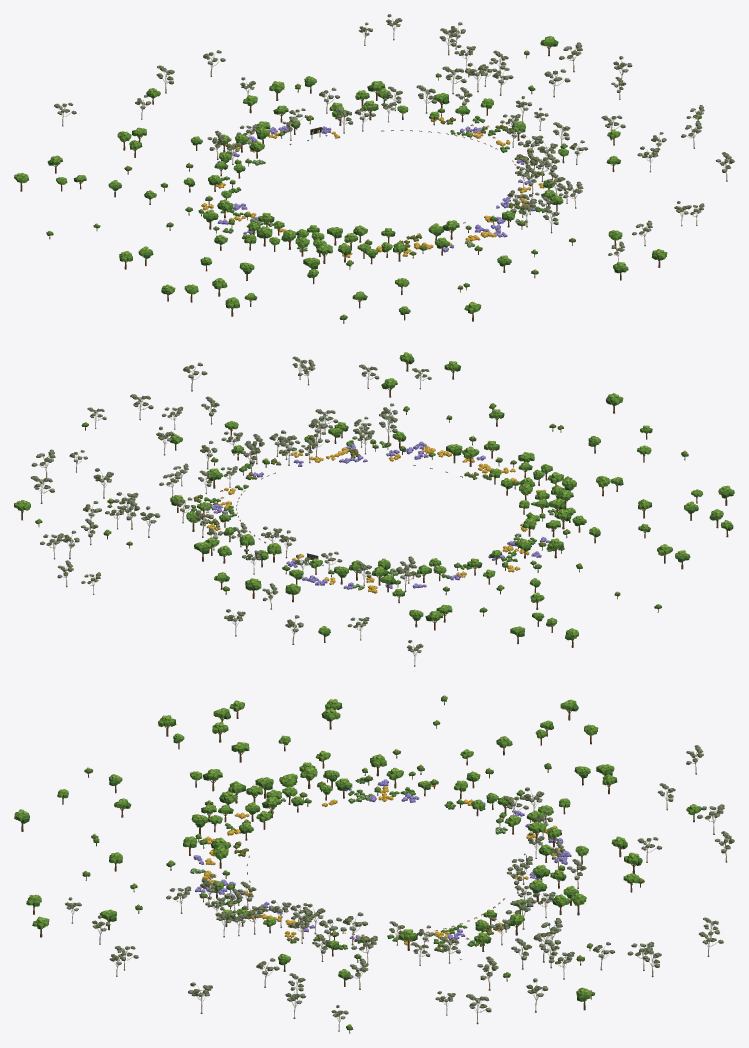
Rendered from park_layout.glb.
3 views of the same model, one above another, from view 1: azimuth 30°, elevation 25°; view 2: azimuth 150°, elevation 25°; view 3: azimuth 270°, elevation 25° (orthographic). The views are drawn at different scales.
Bounding box in the file's own units: 468 × 19.74 × 430.
